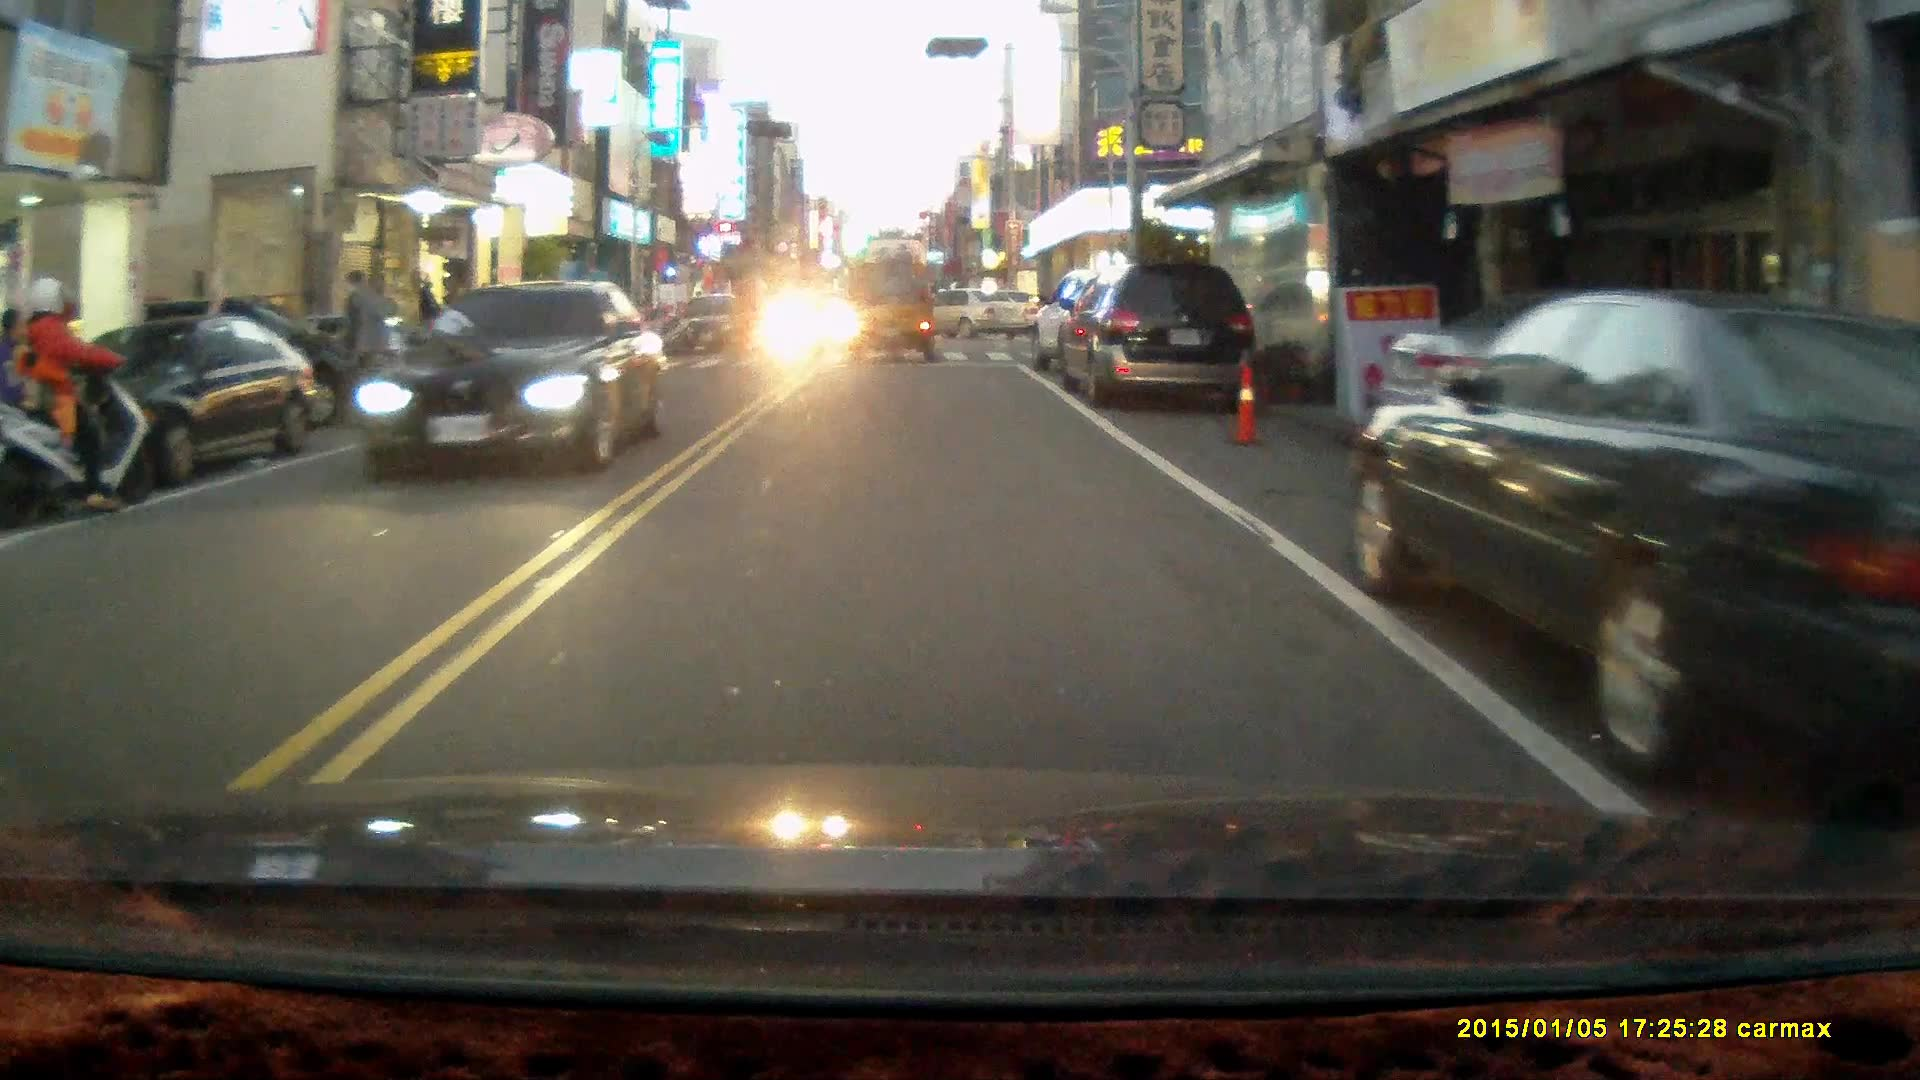pedestrian: (336, 266, 387, 419)
rider: (0, 273, 162, 528)
vehicle: (1354, 289, 1917, 812), (1368, 290, 1757, 486), (355, 278, 670, 487), (21, 315, 303, 488), (1052, 256, 1258, 409), (1028, 269, 1211, 383), (845, 257, 938, 361), (887, 285, 1028, 342), (675, 297, 754, 356)
